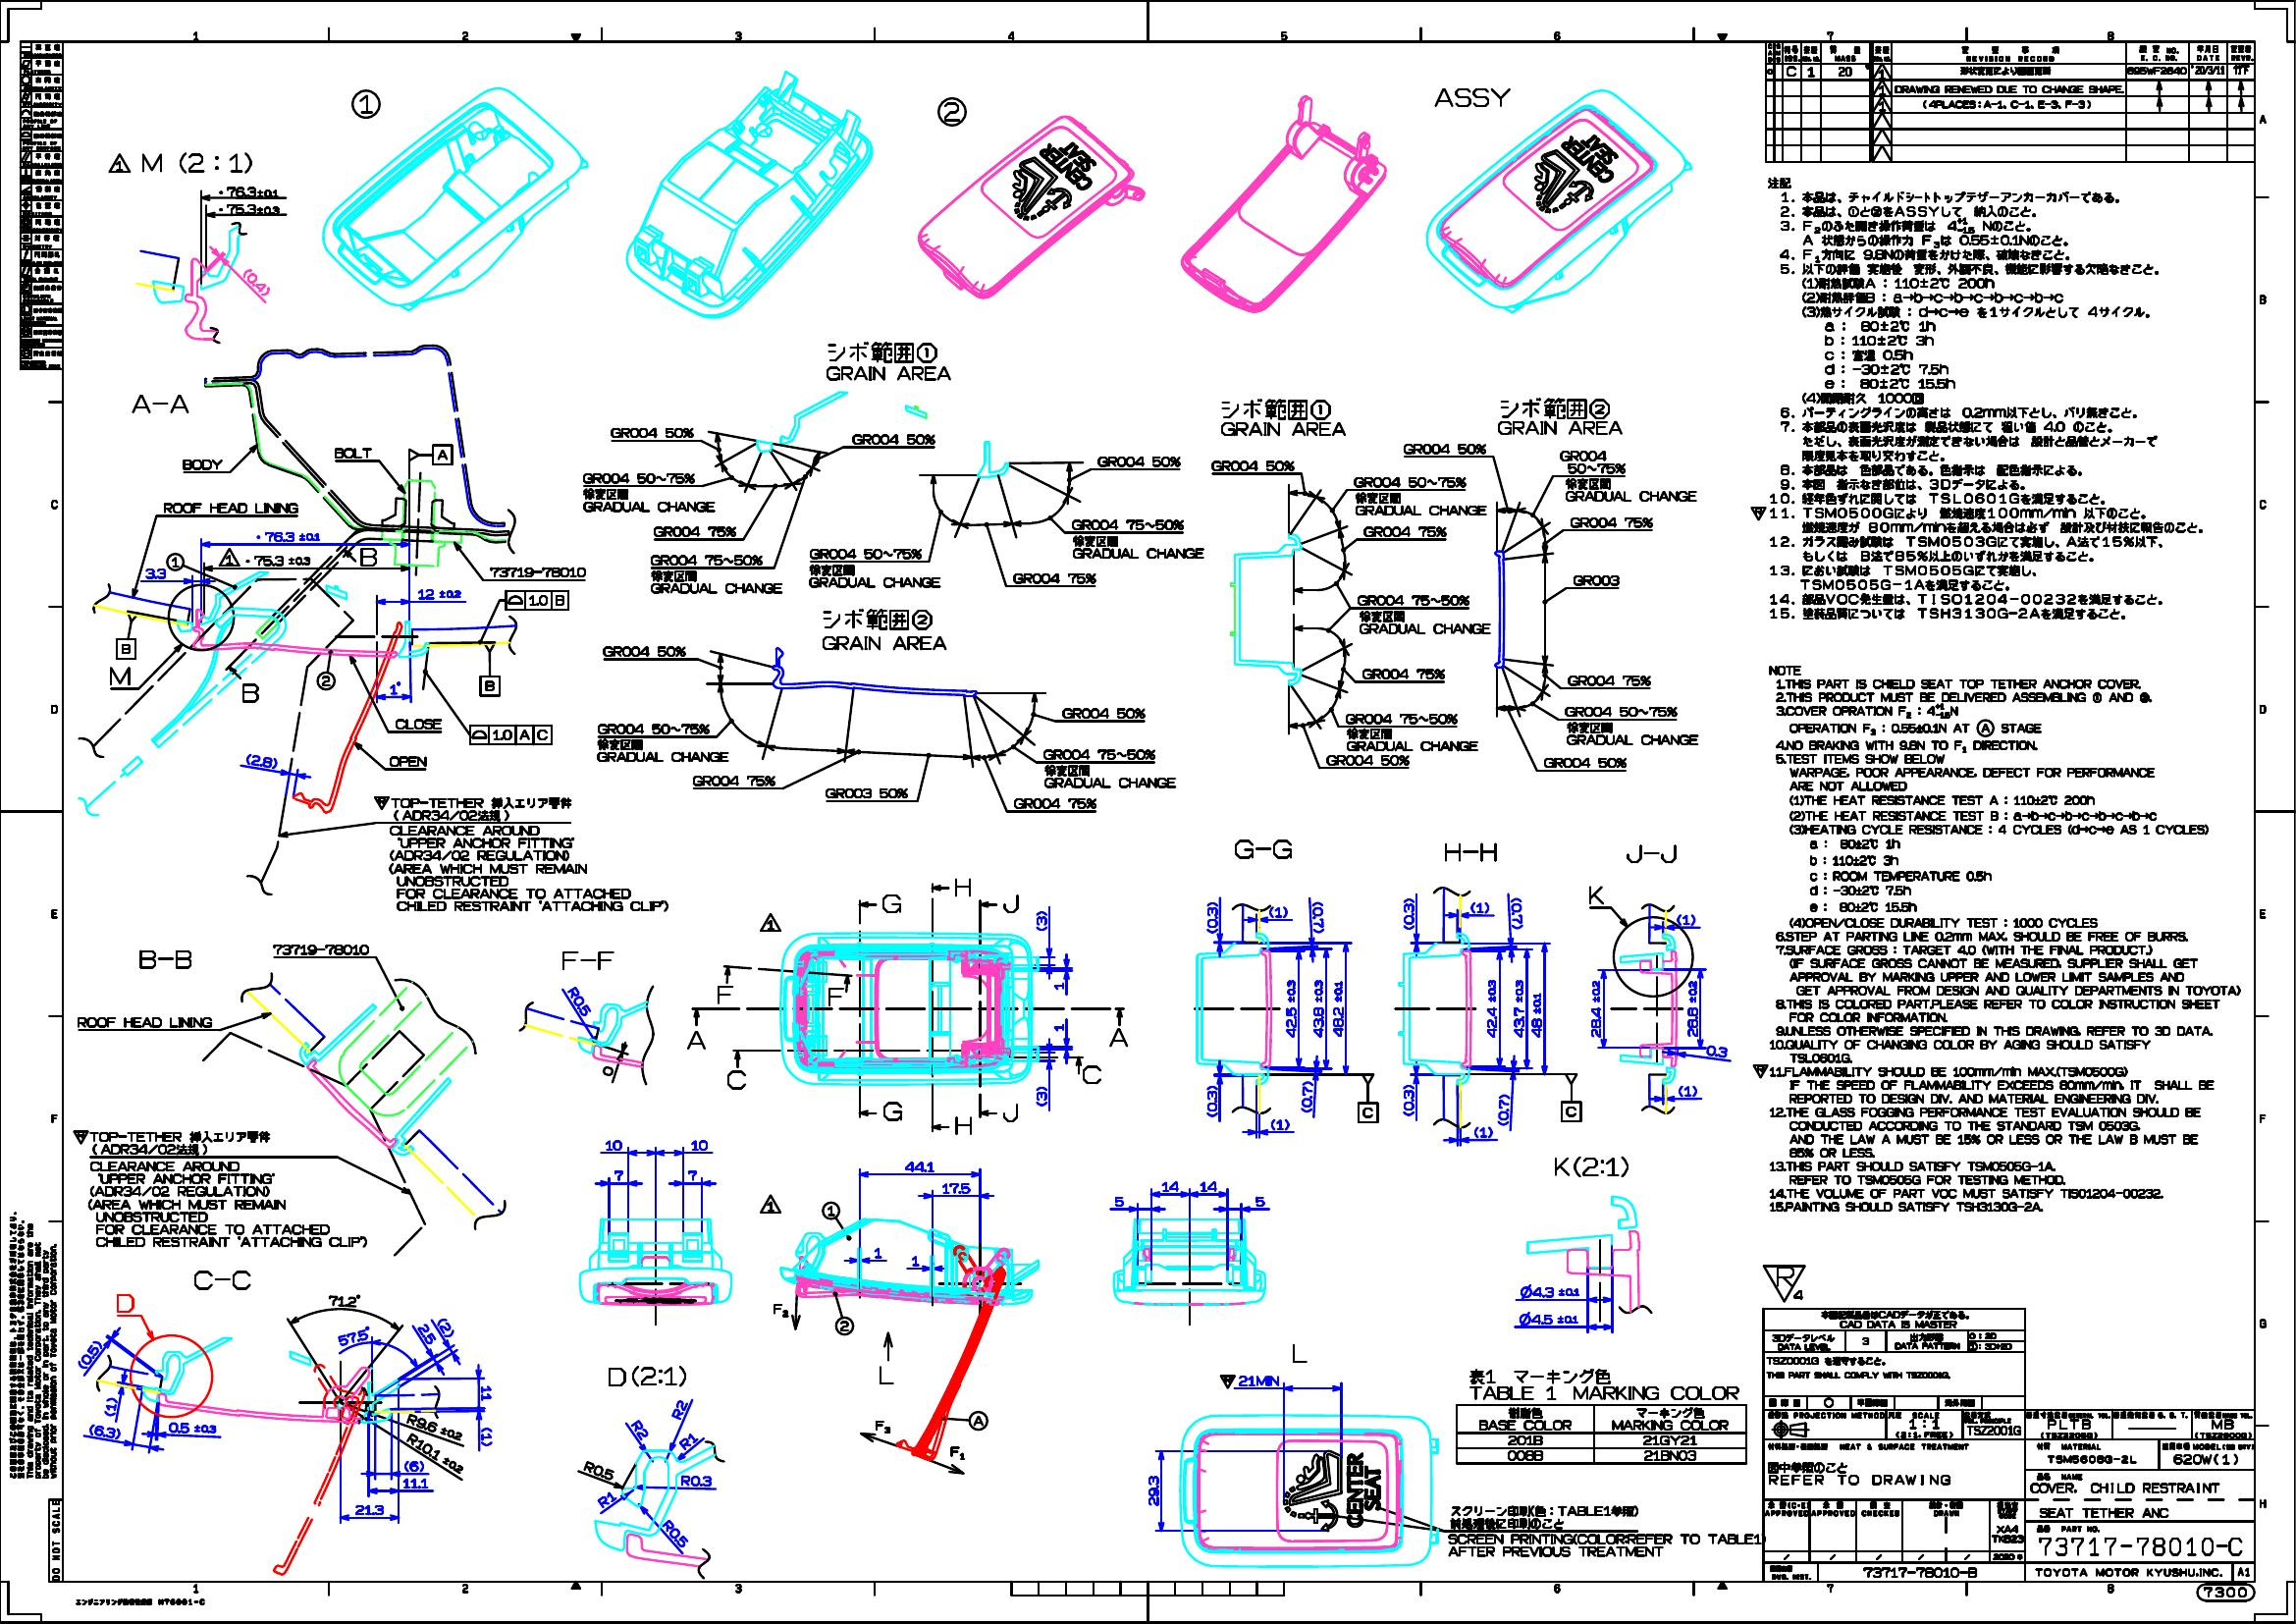anntotation_text: (1750, 174, 2243, 1216), (72, 1128, 369, 1248), (372, 796, 669, 910), (1448, 1504, 1767, 1557), (1470, 1367, 1739, 1403), (1558, 450, 1699, 501), (1356, 592, 1491, 634), (1072, 517, 1205, 559), (1353, 476, 1490, 517), (1042, 749, 1177, 789), (808, 548, 942, 589), (648, 554, 782, 594), (581, 473, 715, 513), (596, 722, 729, 763), (820, 608, 947, 650), (1563, 707, 1699, 745), (1344, 712, 1479, 750), (1219, 397, 1347, 438), (824, 341, 952, 381), (1497, 397, 1623, 434), (105, 149, 255, 178), (1762, 1264, 1806, 1304), (1555, 1155, 1628, 1178), (608, 1366, 687, 1387), (163, 501, 299, 513), (77, 1016, 213, 1028), (1433, 86, 1511, 107), (469, 724, 552, 743), (1233, 838, 1291, 859), (272, 944, 371, 956), (506, 591, 567, 610), (193, 1269, 249, 1290), (130, 394, 190, 413), (1360, 668, 1446, 680), (1210, 459, 1296, 471), (850, 432, 936, 445), (610, 425, 696, 438), (1444, 842, 1498, 861), (1569, 517, 1653, 529), (1325, 754, 1409, 766), (1363, 526, 1448, 538), (1402, 443, 1486, 455), (1096, 455, 1180, 468), (653, 526, 738, 538), (603, 645, 687, 657), (488, 566, 587, 576), (139, 949, 191, 968), (562, 951, 615, 970), (350, 88, 381, 120), (1625, 844, 1676, 863), (1059, 707, 1147, 717), (936, 97, 966, 127), (1567, 675, 1651, 685), (1542, 758, 1627, 768), (1012, 573, 1096, 584), (824, 787, 908, 798), (1014, 798, 1096, 808), (692, 775, 775, 786), (1217, 1374, 1279, 1388), (1572, 575, 1620, 587), (395, 717, 441, 729), (181, 459, 223, 471), (759, 912, 782, 933), (334, 446, 372, 459), (968, 1410, 989, 1431), (1560, 1100, 1581, 1121), (882, 1100, 903, 1121), (218, 547, 241, 566), (759, 1193, 782, 1213), (480, 675, 499, 696), (1108, 1026, 1128, 1048), (882, 893, 901, 914), (1358, 1102, 1379, 1121), (388, 756, 427, 766), (314, 671, 336, 691), (241, 682, 260, 703), (109, 666, 130, 685), (727, 1069, 747, 1090), (432, 445, 451, 464), (116, 640, 135, 659), (165, 552, 184, 571), (834, 1316, 854, 1336), (820, 1200, 840, 1220), (116, 1294, 135, 1313), (687, 1030, 706, 1049), (1082, 1065, 1101, 1084), (954, 877, 971, 896), (360, 547, 378, 566), (827, 986, 845, 1005), (954, 1116, 971, 1135), (1003, 893, 1019, 914), (1588, 884, 1604, 905), (1291, 1343, 1307, 1362), (878, 1366, 894, 1385), (717, 984, 733, 1004), (1003, 1102, 1017, 1123), (949, 1445, 964, 1461), (773, 1302, 789, 1318), (875, 1420, 891, 1434)
dimension_text: (1520, 1283, 1581, 1299), (1518, 1311, 1579, 1325), (404, 1420, 464, 1434), (402, 1446, 469, 1459), (1312, 977, 1325, 1037), (1284, 979, 1296, 1037), (1484, 979, 1497, 1037), (1513, 979, 1525, 1037), (1332, 981, 1344, 1037), (1590, 981, 1602, 1037), (1686, 981, 1699, 1037), (169, 1420, 216, 1434), (253, 555, 311, 566), (264, 531, 320, 541), (1530, 991, 1542, 1037), (227, 186, 279, 197), (416, 589, 462, 599), (337, 1329, 371, 1343), (1509, 896, 1523, 930), (227, 204, 279, 213), (329, 1294, 360, 1308), (1205, 1084, 1217, 1118), (562, 995, 596, 1007), (72, 1348, 105, 1360), (88, 1425, 121, 1438), (1312, 900, 1325, 933), (1402, 896, 1414, 930), (239, 276, 272, 288), (1300, 1081, 1312, 1113), (680, 1475, 711, 1487), (659, 1527, 690, 1540), (583, 1464, 615, 1476), (1147, 1475, 1159, 1506), (905, 1160, 935, 1172), (1498, 1093, 1509, 1127), (1207, 902, 1217, 933), (1404, 1084, 1414, 1116), (246, 756, 278, 766), (942, 1183, 971, 1193), (436, 1320, 457, 1334), (355, 1504, 383, 1515), (1035, 1084, 1047, 1107), (1706, 1044, 1729, 1056), (402, 1478, 429, 1489), (1035, 910, 1047, 932), (100, 1401, 121, 1413), (1676, 914, 1697, 926), (144, 568, 165, 580), (1270, 1118, 1289, 1130), (480, 1427, 492, 1446), (669, 1403, 689, 1415), (631, 1424, 650, 1436), (678, 1434, 697, 1446), (1268, 905, 1288, 917), (1470, 902, 1490, 914), (1678, 1084, 1697, 1097), (416, 1329, 437, 1339), (690, 1139, 708, 1151), (604, 1139, 622, 1151), (1161, 1179, 1179, 1192), (1200, 1179, 1217, 1192), (404, 1461, 423, 1471), (597, 1494, 617, 1504), (1474, 1127, 1493, 1137), (480, 1385, 492, 1401), (388, 680, 401, 696), (1114, 1195, 1124, 1207), (1254, 1195, 1265, 1207), (603, 1065, 613, 1076), (613, 1169, 624, 1179), (687, 1169, 697, 1179), (873, 1246, 882, 1258), (1054, 1023, 1065, 1032), (912, 1255, 919, 1267), (1054, 982, 1065, 990)
object: (84, 343, 516, 816), (97, 1336, 437, 1577), (778, 1216, 1040, 1462), (624, 70, 873, 318), (244, 981, 502, 1218), (321, 86, 588, 313), (1425, 88, 1692, 313), (1179, 95, 1388, 313), (917, 114, 1145, 299), (778, 930, 1040, 1086), (1179, 1413, 1439, 1568), (755, 390, 1008, 478), (1397, 888, 1472, 1128), (1196, 905, 1272, 1114), (594, 1445, 715, 1568), (1525, 1193, 1641, 1313), (1112, 1216, 1267, 1306), (578, 1216, 733, 1306), (1618, 903, 1679, 1114), (135, 225, 241, 341), (1230, 533, 1302, 685), (771, 647, 978, 696), (523, 1000, 648, 1069), (1493, 550, 1505, 668)
title_block: (1764, 1309, 2256, 1582), (1765, 40, 2254, 162), (1456, 1404, 1746, 1462), (19, 40, 63, 369)
